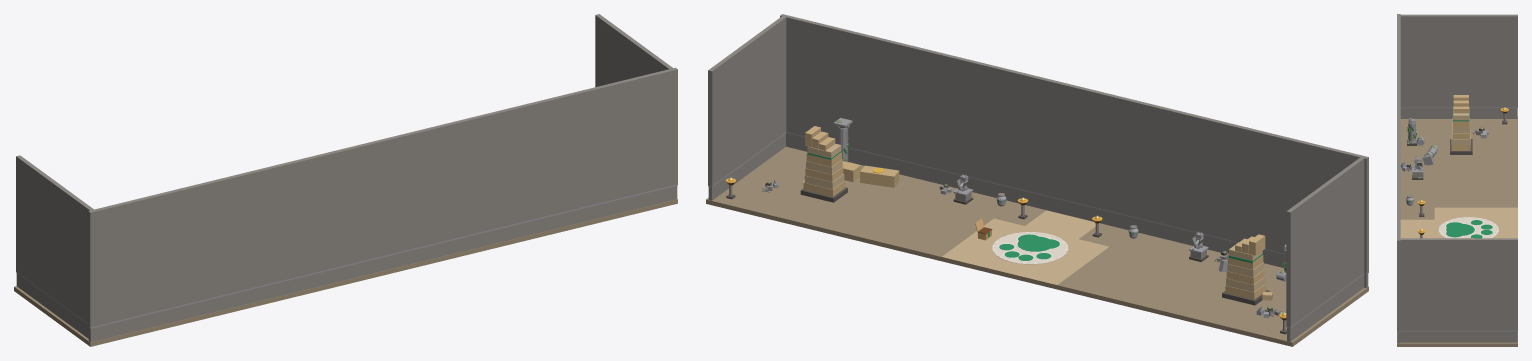
The model's file is CatCafe_Camp_Ruins.fbx.
3 views of the same model, side by side, from view 1: azimuth 30°, elevation 25°; view 2: azimuth 150°, elevation 25°; view 3: azimuth 270°, elevation 25° (orthographic). The views are drawn at different scales.
Visible parts, largest first — view 1: CatCafe_Camp_Ruins_Barrier, CatCafe_Camp_Ruins; view 2: CatCafe_Camp_Ruins_Barrier, CatCafe_Camp_Ruins, CatCafe_Camp_Ruins_006_GatePylon, CatCafe_Camp_Ruins_001_GatePylon, CatCafe_Camp_Ruins_011_FallenLintel; view 3: CatCafe_Camp_Ruins_Barrier, CatCafe_Camp_Ruins, CatCafe_Camp_Ruins_001_GatePylon, CatCafe_Camp_Ruins_004_ColumnBroken, CatCafe_Camp_Ruins_014_Gargoyle, CatCafe_Camp_Ruins_012_Drums, CatCafe_Camp_Ruins_016_Rubble.
Boxes of the visible parts, <box> form: CatCafe_Camp_Ruins_Barrier: <box>16,14,677,327</box>; CatCafe_Camp_Ruins: <box>14,184,677,346</box>; CatCafe_Camp_Ruins_Barrier: <box>708,14,1368,326</box>; CatCafe_Camp_Ruins: <box>706,132,1368,346</box>; CatCafe_Camp_Ruins_006_GatePylon: <box>800,126,847,202</box>; CatCafe_Camp_Ruins_001_GatePylon: <box>1222,234,1272,305</box>; CatCafe_Camp_Ruins_011_FallenLintel: <box>842,161,899,187</box>; CatCafe_Camp_Ruins_Barrier: <box>1397,14,1517,331</box>; CatCafe_Camp_Ruins: <box>1397,107,1517,346</box>; CatCafe_Camp_Ruins_001_GatePylon: <box>1450,95,1472,154</box>; CatCafe_Camp_Ruins_004_ColumnBroken: <box>1407,118,1424,145</box>; CatCafe_Camp_Ruins_014_Gargoyle: <box>1412,156,1424,179</box>; CatCafe_Camp_Ruins_012_Drums: <box>1422,145,1438,165</box>; CatCafe_Camp_Ruins_016_Rubble: <box>1472,127,1489,138</box>.
Size of the model in its own units: 142 by 31 by 32.
1 material, 1 textured.
